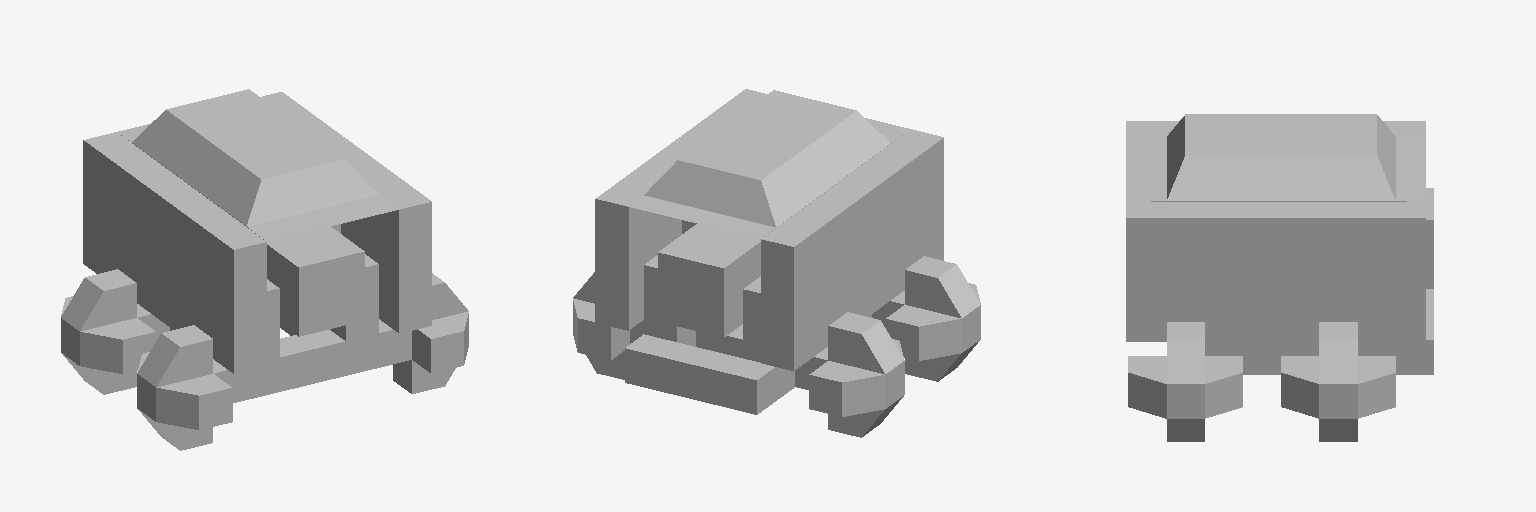
File: RamMeshBig6.obj
3 renders of one model, left to right at view 1: azimuth 30°, elevation 25°; view 2: azimuth 150°, elevation 25°; view 3: azimuth 270°, elevation 25°, orthographic.
Visible parts, largest first — view 1: RamMeshBig6; view 2: RamMeshBig6; view 3: RamMeshBig6.
Boxes of the visible parts, x1,y1,x2,y2 form: RamMeshBig6: [61, 89, 468, 450]; RamMeshBig6: [573, 89, 980, 437]; RamMeshBig6: [1126, 114, 1433, 441].
Bounding box in the file's own units: 0.9455 × 0.7 × 0.8067.